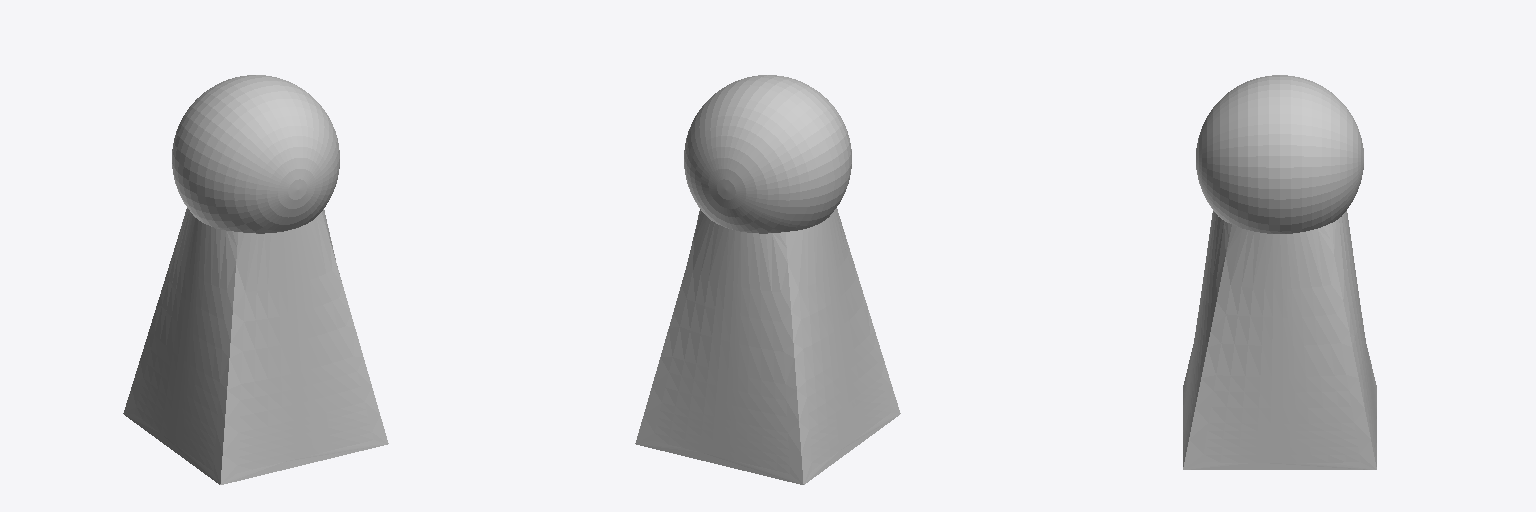
File: Person.obj
3 views of the same model, side by side, from view 1: azimuth 30°, elevation 25°; view 2: azimuth 150°, elevation 25°; view 3: azimuth 270°, elevation 25° (orthographic).
Parts seen in each view (by area): view 1: Person; view 2: Person; view 3: Person.
Boxes of the visible parts, x1=… form: Person: x1=123, y1=75, x2=388, y2=484; Person: x1=635, y1=75, x2=900, y2=484; Person: x1=1183, y1=75, x2=1376, y2=469.
Bounding box in the file's own units: 1.05 × 2.06 × 1.05.